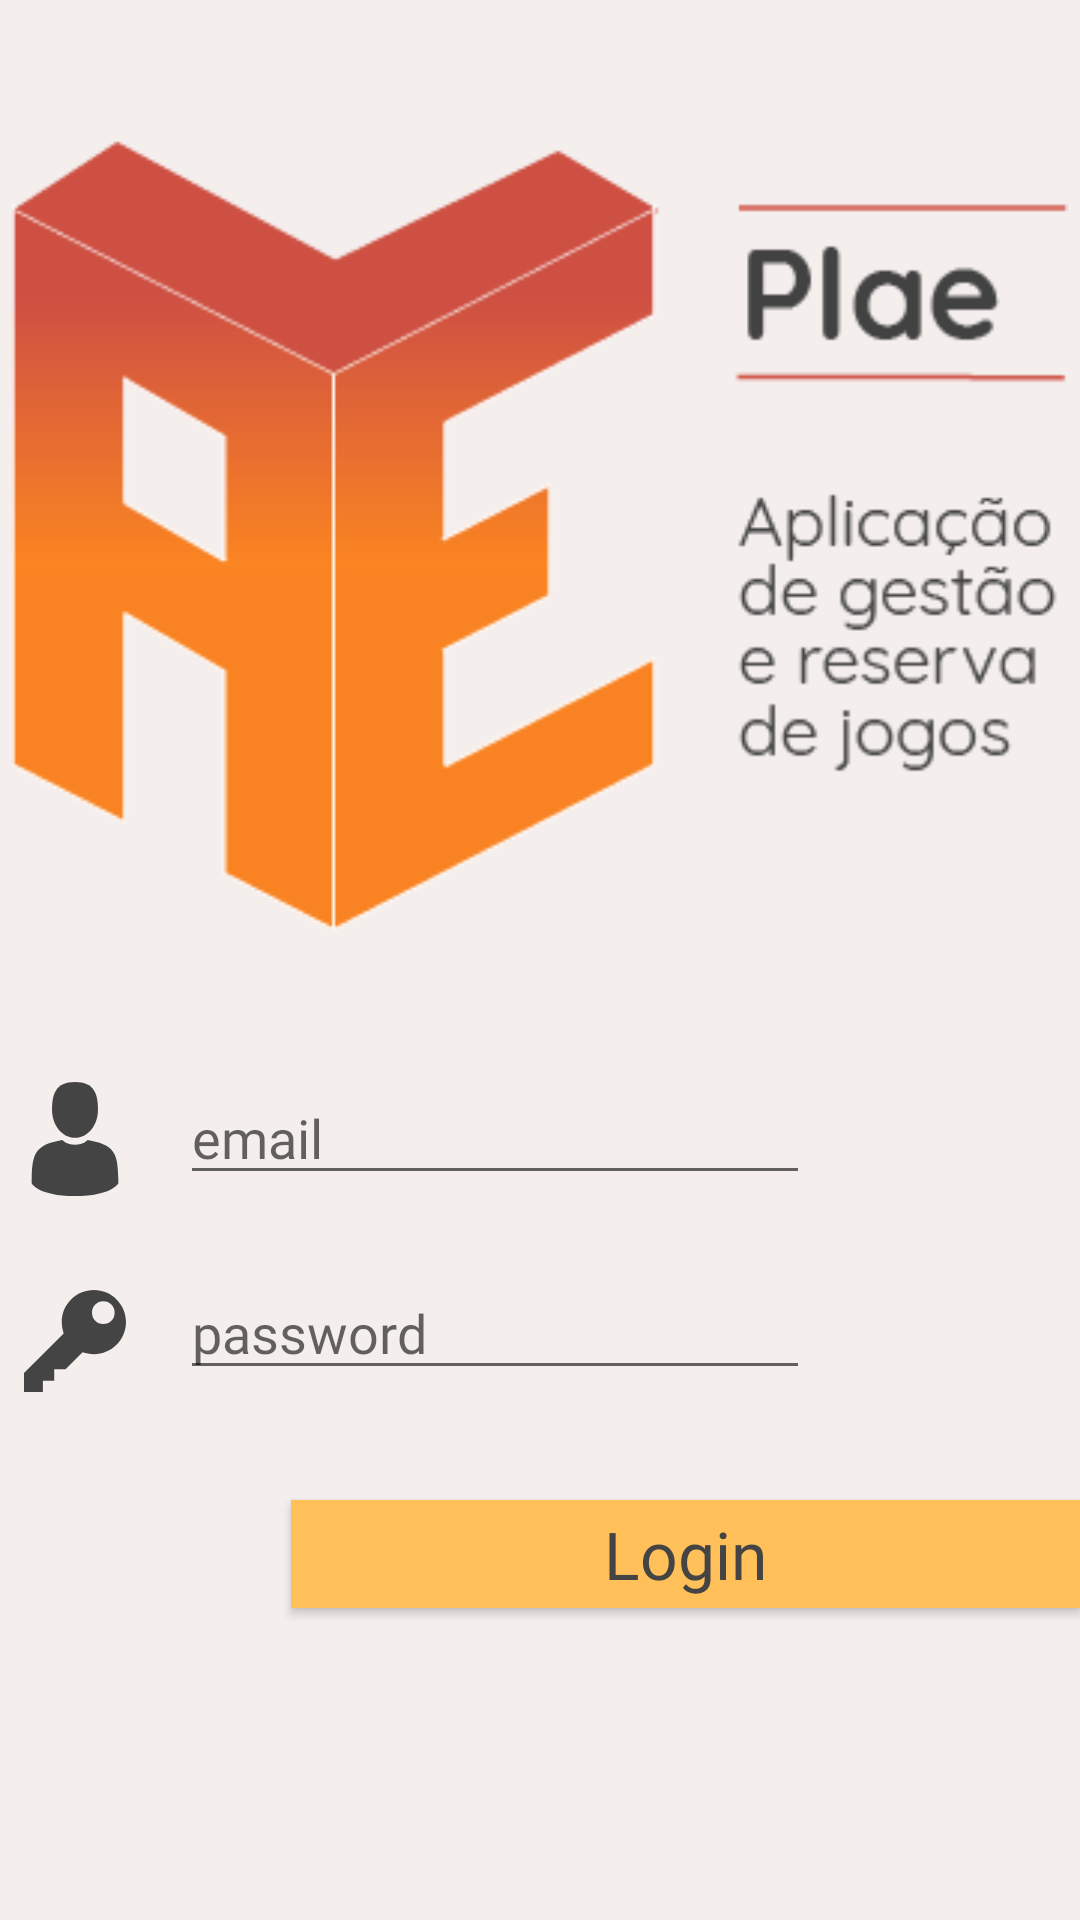

Screen size 1080 x 1920. Icon name, then its box in pixels as (x1, y1, x2, y2):
user: (31, 1082, 119, 1196)
